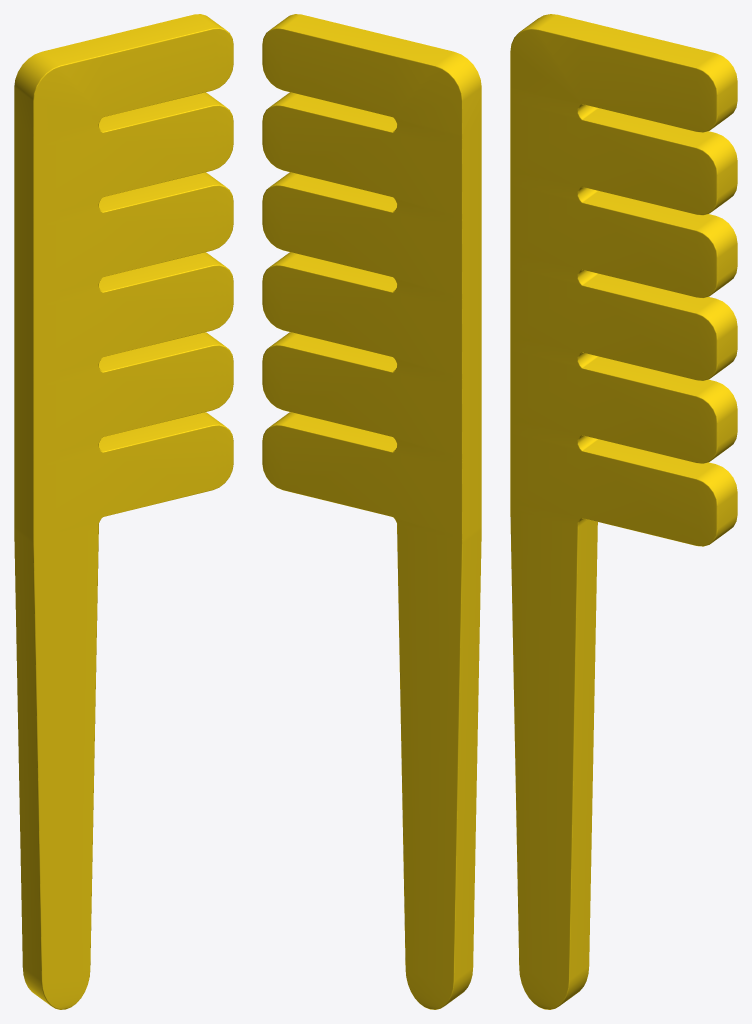
File: Public_15_Hairbrush_4.glb
The picture shows the model from 3 angles, left to right: view 1: azimuth 30°, elevation 25°; view 2: azimuth 150°, elevation 25°; view 3: azimuth 330°, elevation 25°; orthographic projection. The views are drawn at different scales.
Visible parts, largest first — view 1: Public_15_Hairbrush_4; view 2: Public_15_Hairbrush_4; view 3: Public_15_Hairbrush_4.
Part boxes in pixels (x1=…): Public_15_Hairbrush_4: x1=14, y1=14, x2=233, y2=1009; Public_15_Hairbrush_4: x1=262, y1=14, x2=481, y2=1009; Public_15_Hairbrush_4: x1=510, y1=14, x2=737, y2=1009.
Size of the model in its own units: 0.6614 by 2.97 by 0.1123.
1 material, 1 textured.
